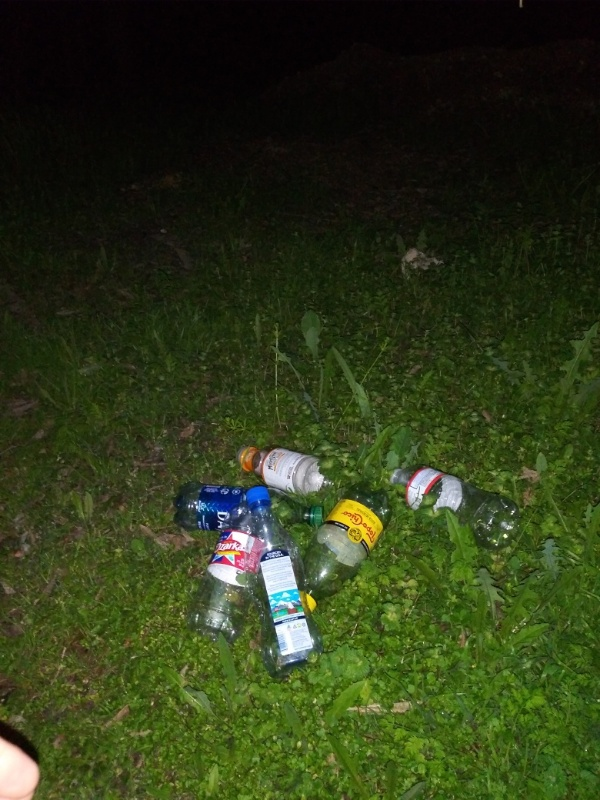bottle: (241, 482, 331, 678), (292, 483, 396, 617), (383, 464, 525, 554), (189, 495, 277, 639), (171, 478, 329, 530), (234, 444, 341, 497)
